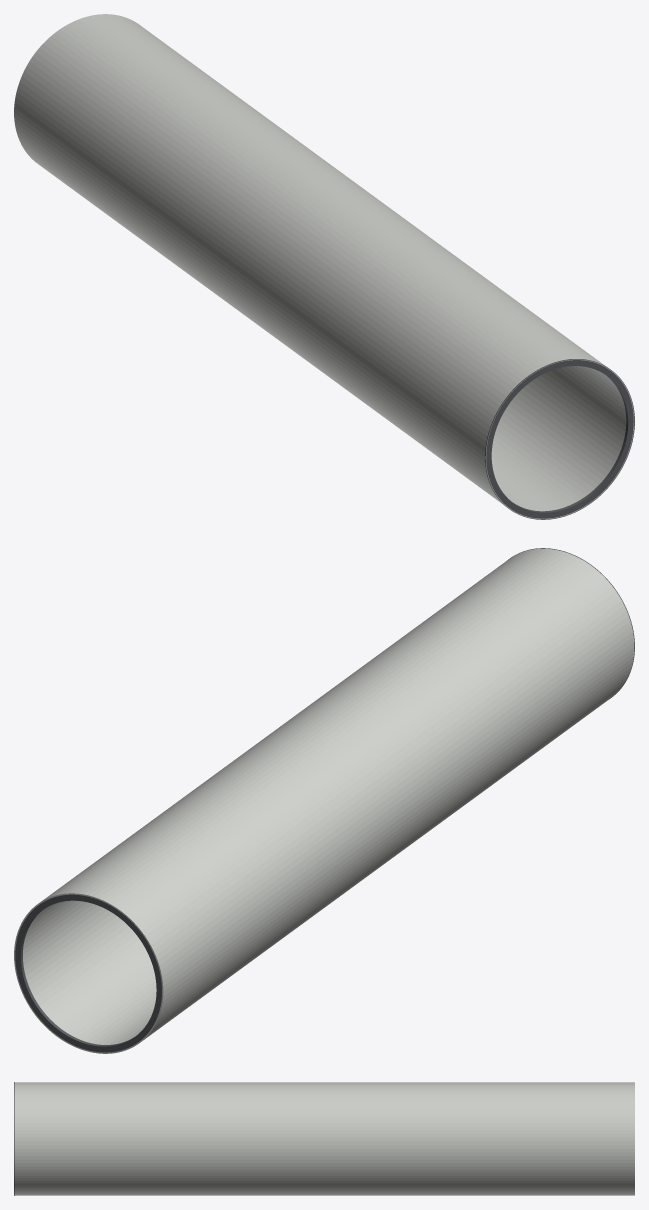
File: tower_section_2.glb
3 renders of one model, top to bottom at view 1: azimuth 30°, elevation 25°; view 2: azimuth 150°, elevation 25°; view 3: azimuth 270°, elevation 25°, orthographic. The views are drawn at different scales.
Parts seen in each view (by area): view 1: tower_section_2; view 2: tower_section_2; view 3: tower_section_2.
Part boxes in pixels (bbox=[...]): tower_section_2: bbox=[14, 14, 634, 519]; tower_section_2: bbox=[14, 548, 634, 1053]; tower_section_2: bbox=[14, 1082, 634, 1195].
Size of the model in its own units: 5.94 by 5.94 by 32.42.
Materials: 2 (2 with a texture image).
